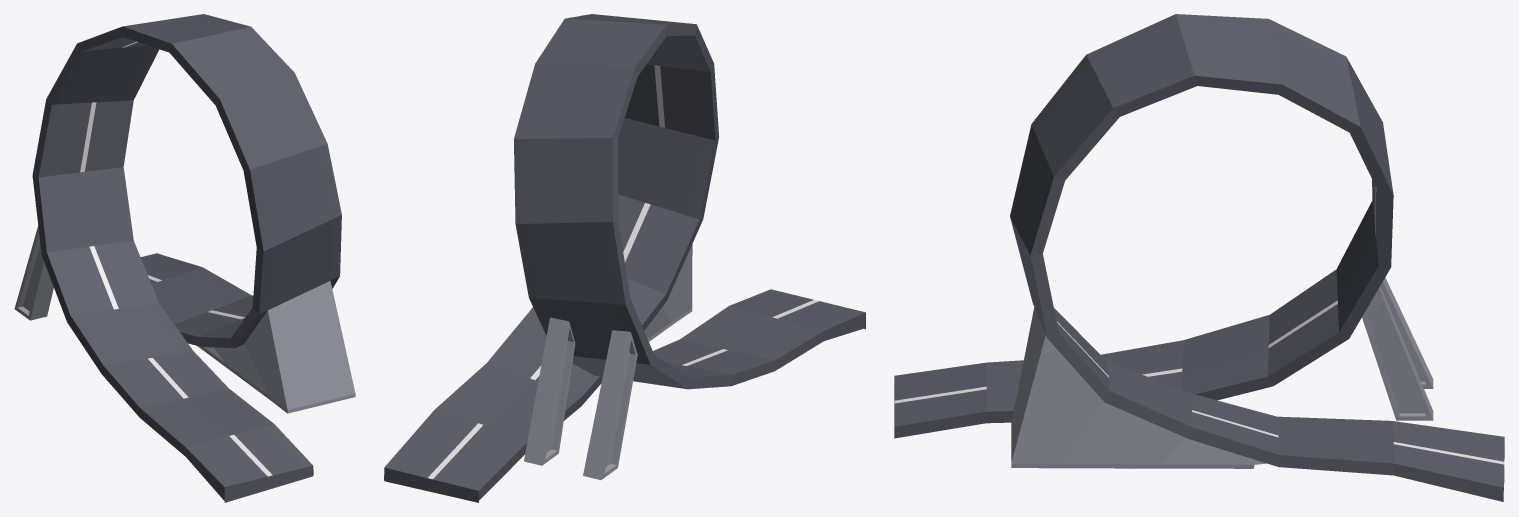
Rendered from Road_JumpPads.fbx.
3 views of the same model, side by side, from view 1: azimuth 30°, elevation 25°; view 2: azimuth 150°, elevation 25°; view 3: azimuth 270°, elevation 25° (orthographic). The views are drawn at different scales.
Parts seen in each view (by area): view 1: Road_JumpPads; view 2: Road_JumpPads; view 3: Road_JumpPads.
Boxes of the visible parts, x1,y1,x2,y2 form: Road_JumpPads: (14,14,355,502); Road_JumpPads: (384,14,865,502); Road_JumpPads: (894,14,1504,501).
Bounding box in the file's own units: 296 × 692 × 524.
